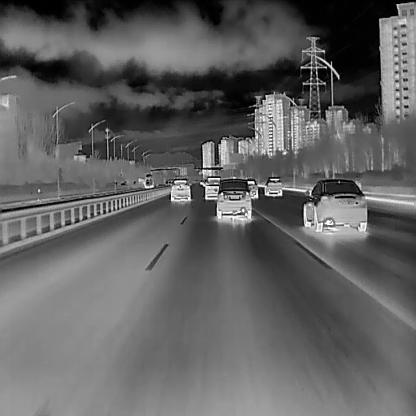car: (301, 177, 368, 234), (213, 176, 252, 220), (168, 177, 191, 202), (202, 174, 221, 199), (263, 176, 282, 196), (244, 176, 257, 199), (119, 182, 125, 185)
